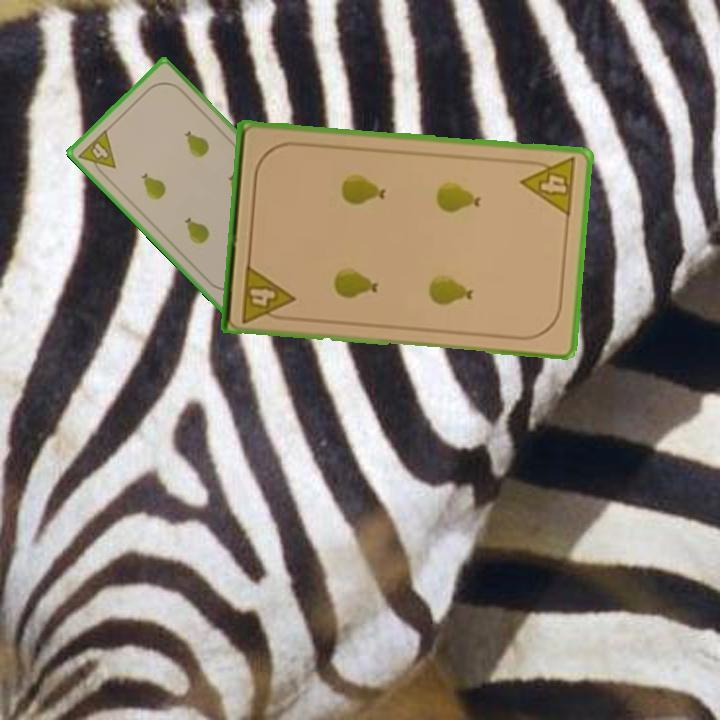4p: (517, 154, 579, 219), (238, 260, 297, 326), (75, 126, 119, 180)
